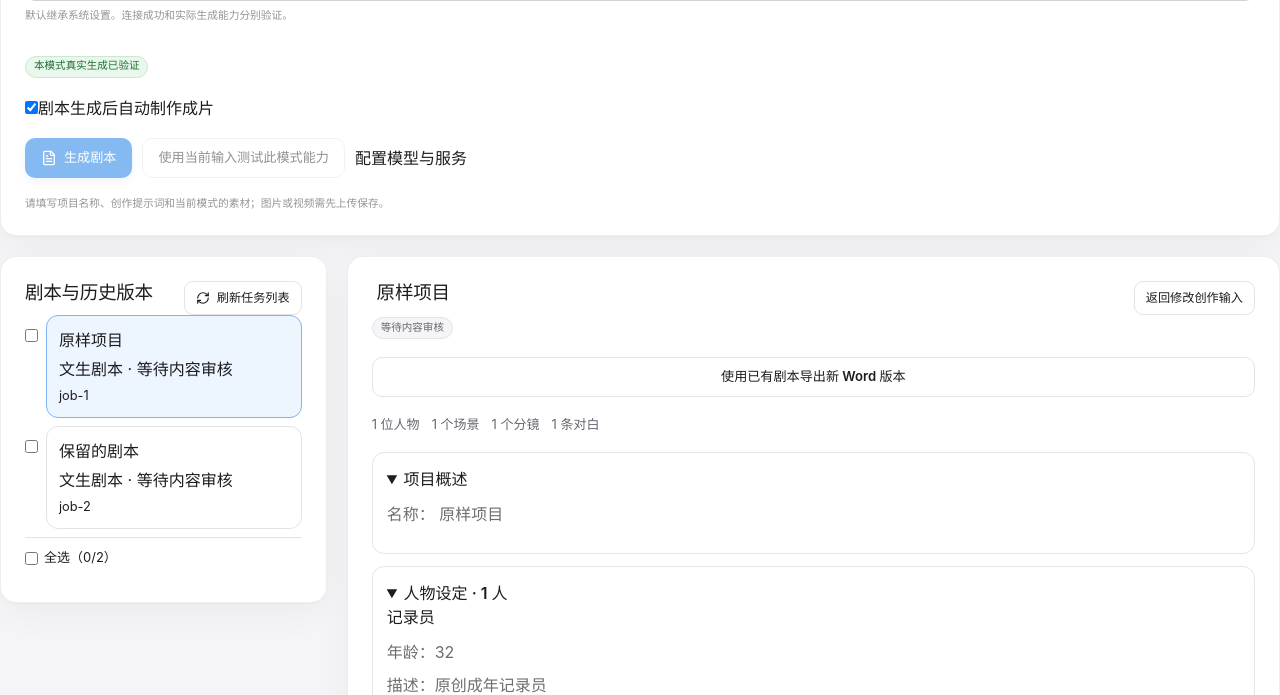
Test: updates only the deleted history job after completed
The image size is (1280, 695).
(page scrolled)
Expected: the heading "原样项目" is shown, [372,281,455,305]
Click the checkbox named "选择任务 原样项目": x=32, y=336 [25,329,38,342]
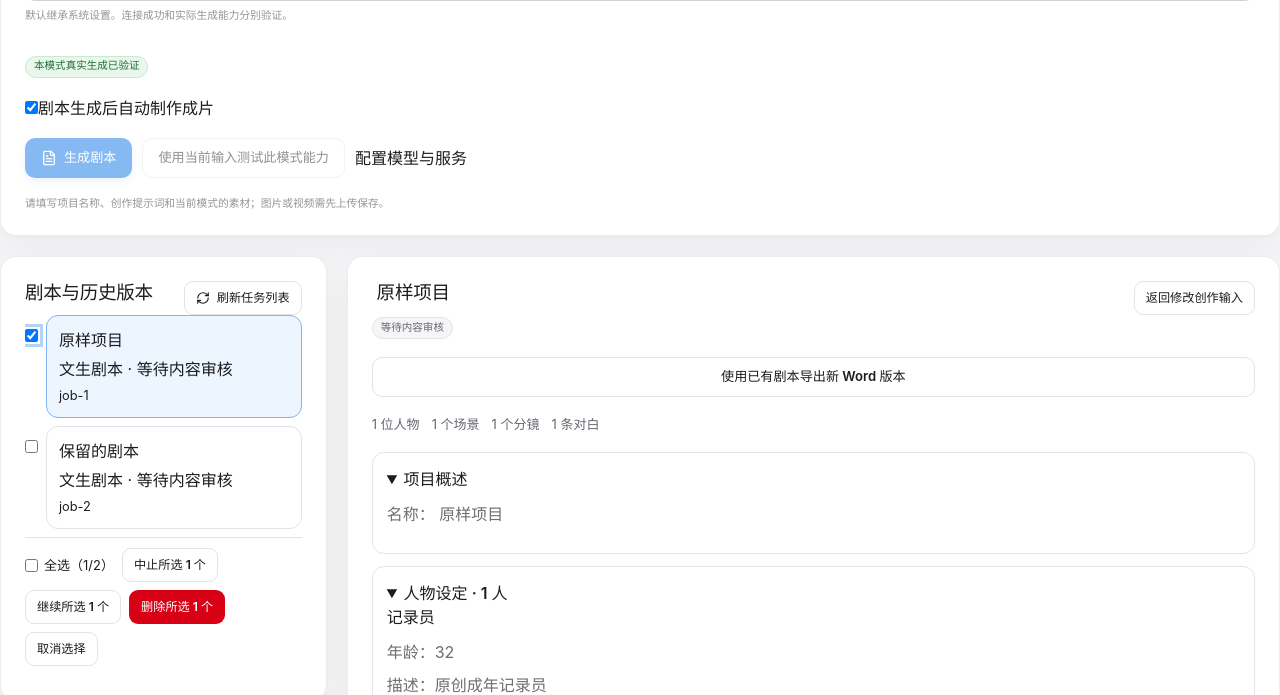
Click the button "删除所选 1 个": x=177, y=607 [129,590,225,624]
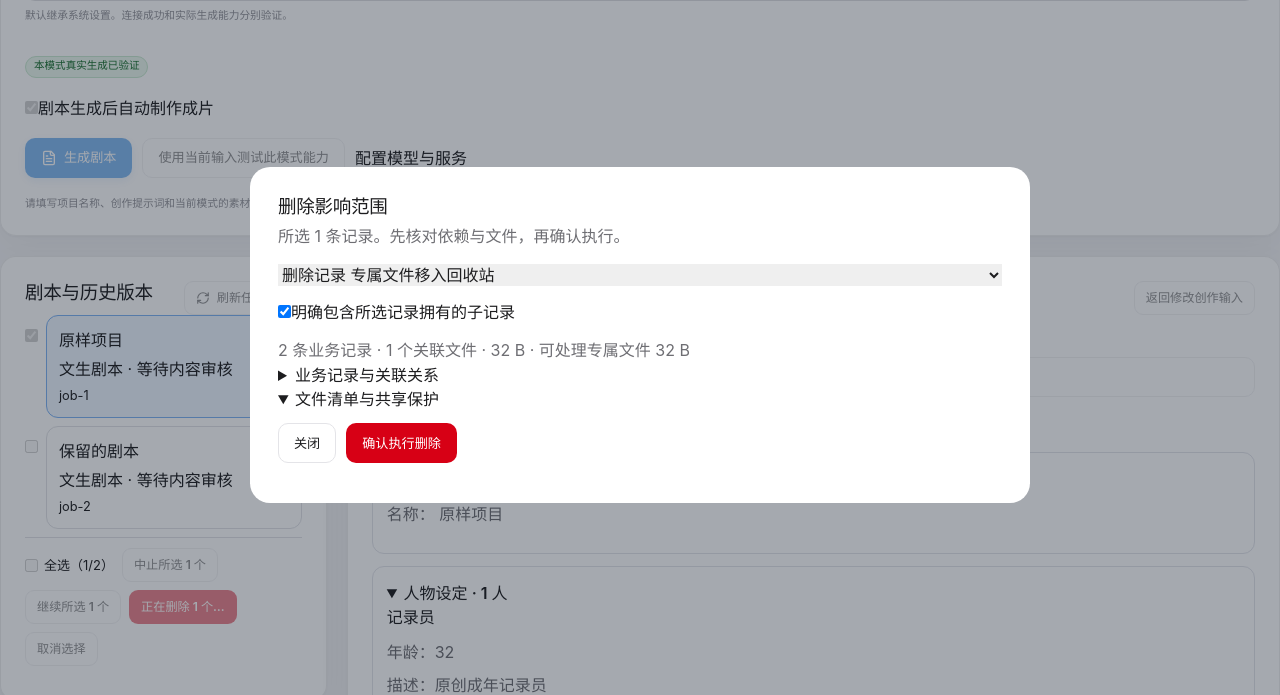
Expected: the dialog "删除影响范围" is shown, [250,166,1030,503]
Expected: the dropdown named "文件删除模式" shows "删除记录 专属文件移入回收站", [278,264,1002,286]
Expected: the checkbox labelled "明确包含所选记录拥有的子记录" is checked, [278,305,291,318]
Click the button "确认执行删除": x=402, y=444 [346,424,457,464]
(page scrolled)
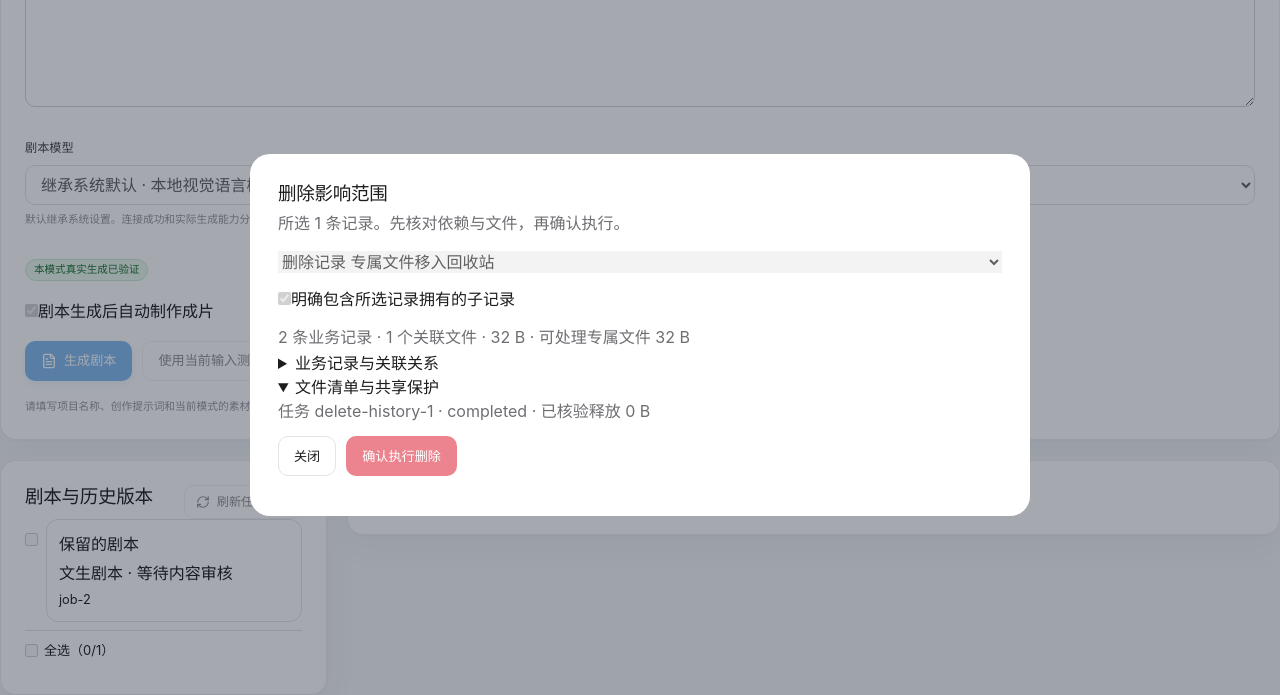
Expected: the checkbox named "选择任务 保留的剧本" is not checked, [25,533,38,546]
Expected: the button "原样项目" is gone
